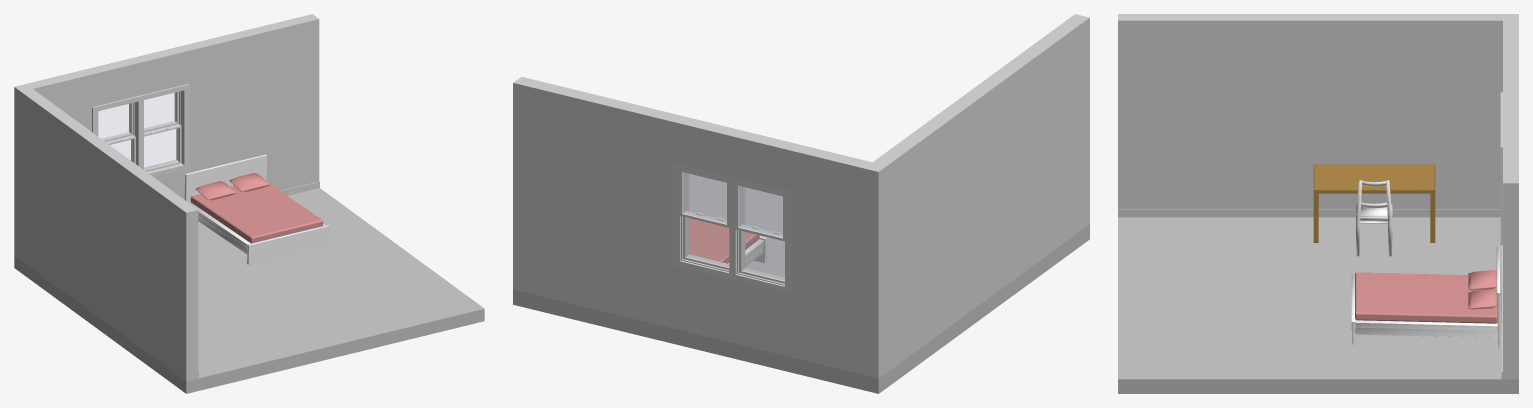
The model's file is L16_W16_furniture2_privacy2.glb.
3 renders of one model, left to right at view 1: azimuth 30°, elevation 25°; view 2: azimuth 150°, elevation 25°; view 3: azimuth 270°, elevation 25°, orthographic. The views are drawn at different scales.
Size of the model in its own units: 200 by 116 by 200.
